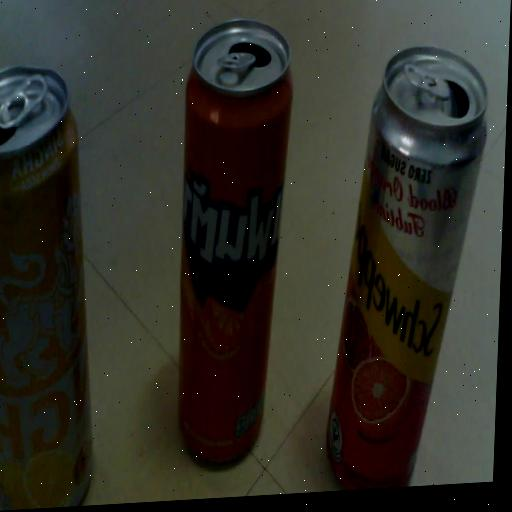canned: (319, 26, 506, 492), (156, 0, 305, 464), (0, 40, 134, 512)
